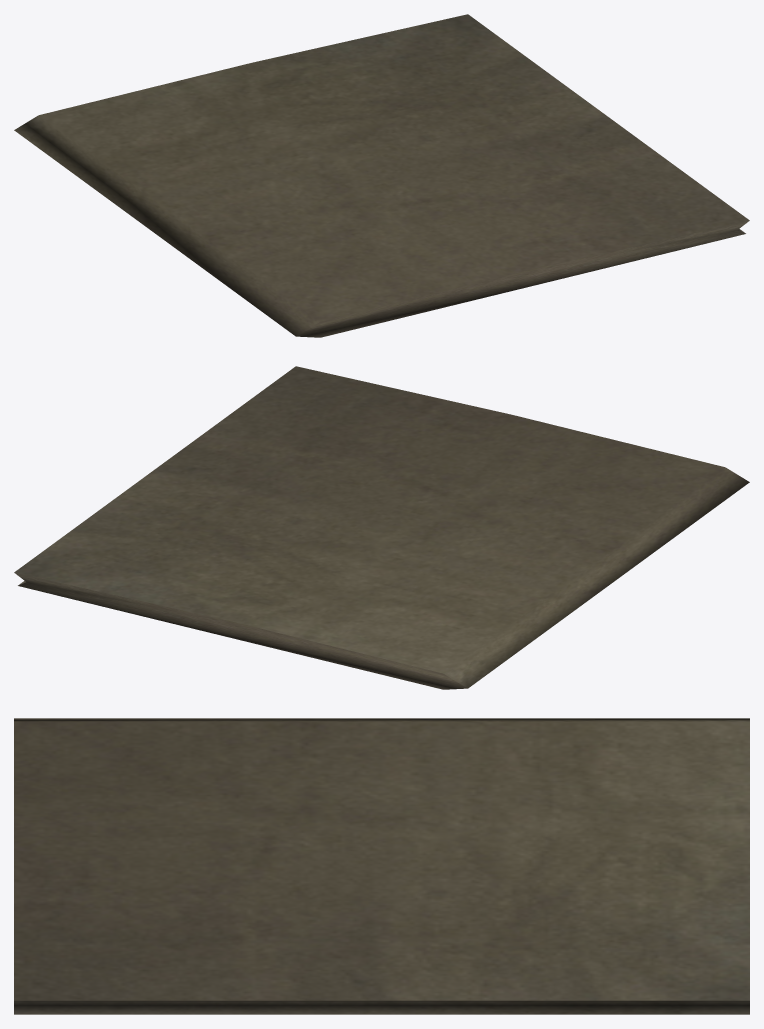
Rendered from Big_LargeTarp2.fbx.
3 renders of one model, top to bottom at view 1: azimuth 30°, elevation 25°; view 2: azimuth 150°, elevation 25°; view 3: azimuth 270°, elevation 25°, orthographic. The views are drawn at different scales.
Visible parts, largest first — view 1: Tarp; view 2: Tarp; view 3: Tarp.
Part boxes in pixels (x1,y1,x2,y2): Tarp: (14,14,749,337); Tarp: (14,366,749,689); Tarp: (14,718,749,1014).
Size of the model in its own units: 122 by 4.27 by 131.
